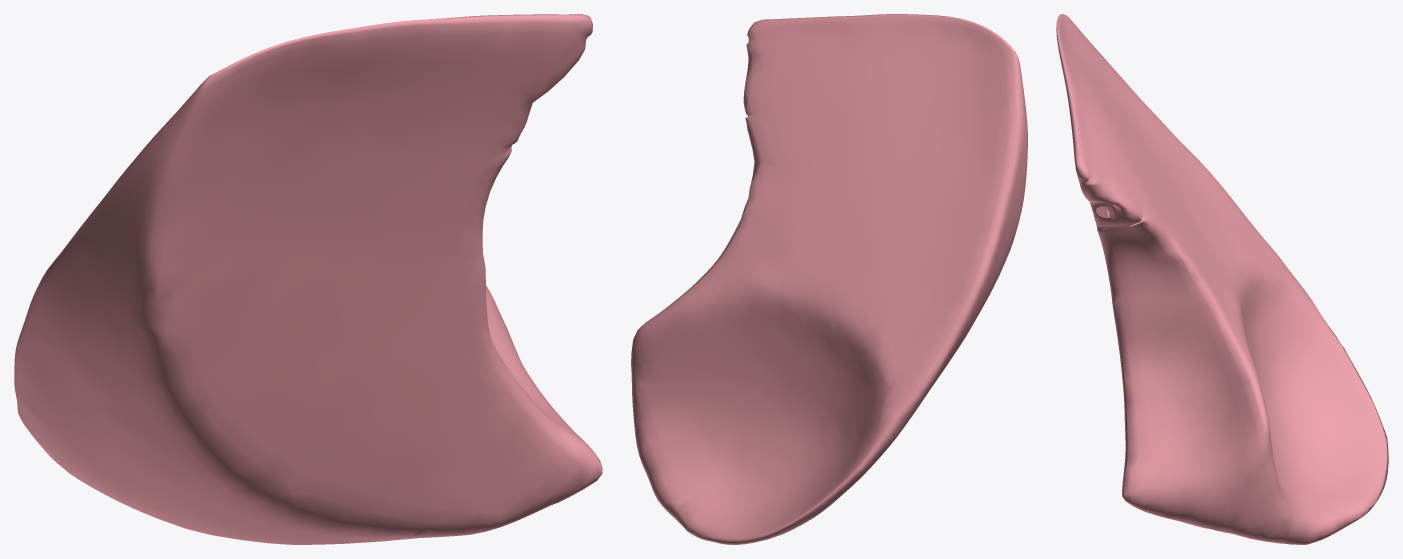
3 renders of one model, left to right at view 1: azimuth 30°, elevation 25°; view 2: azimuth 150°, elevation 25°; view 3: azimuth 270°, elevation 25°, orthographic. The views are drawn at different scales.
Visible parts, largest first — view 1: 右肺中叶; view 2: 右肺中叶; view 3: 右肺中叶.
Part boxes in pixels (<box>): 右肺中叶: <box>14,14,602,544</box>; 右肺中叶: <box>631,14,1027,544</box>; 右肺中叶: <box>1056,14,1388,544</box>.
Size of the model in its own units: 0.1736 by 0.221 by 0.1527.
